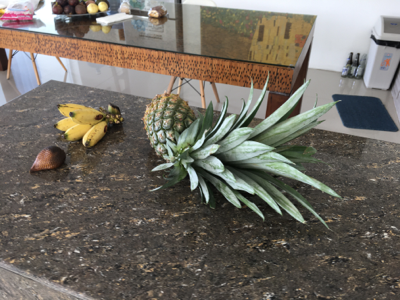banana: (54, 101, 124, 149)
pineapple: (143, 79, 335, 221)
snake fruit: (29, 145, 68, 174)
